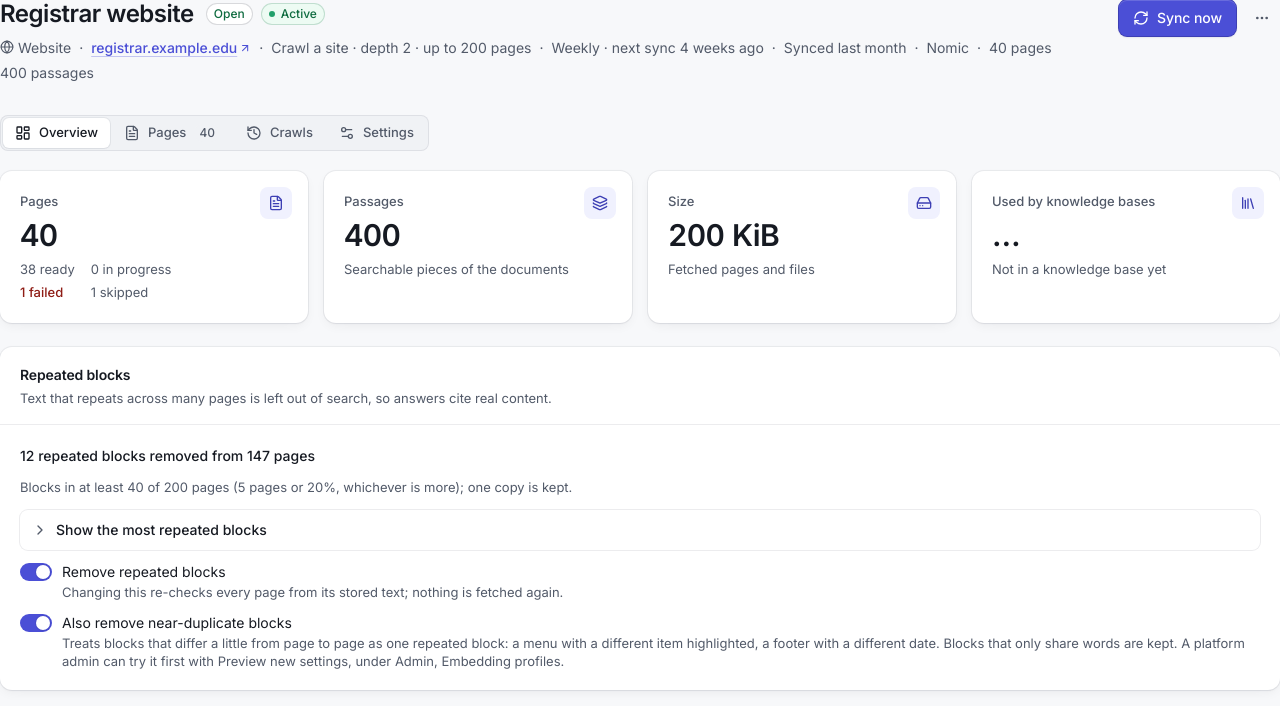
Repeated blocks card › lists a cluster once, with its variants
Step 1. Click the button "Show the most repeated blocks" → (161, 530), box [20,510,1260,550]
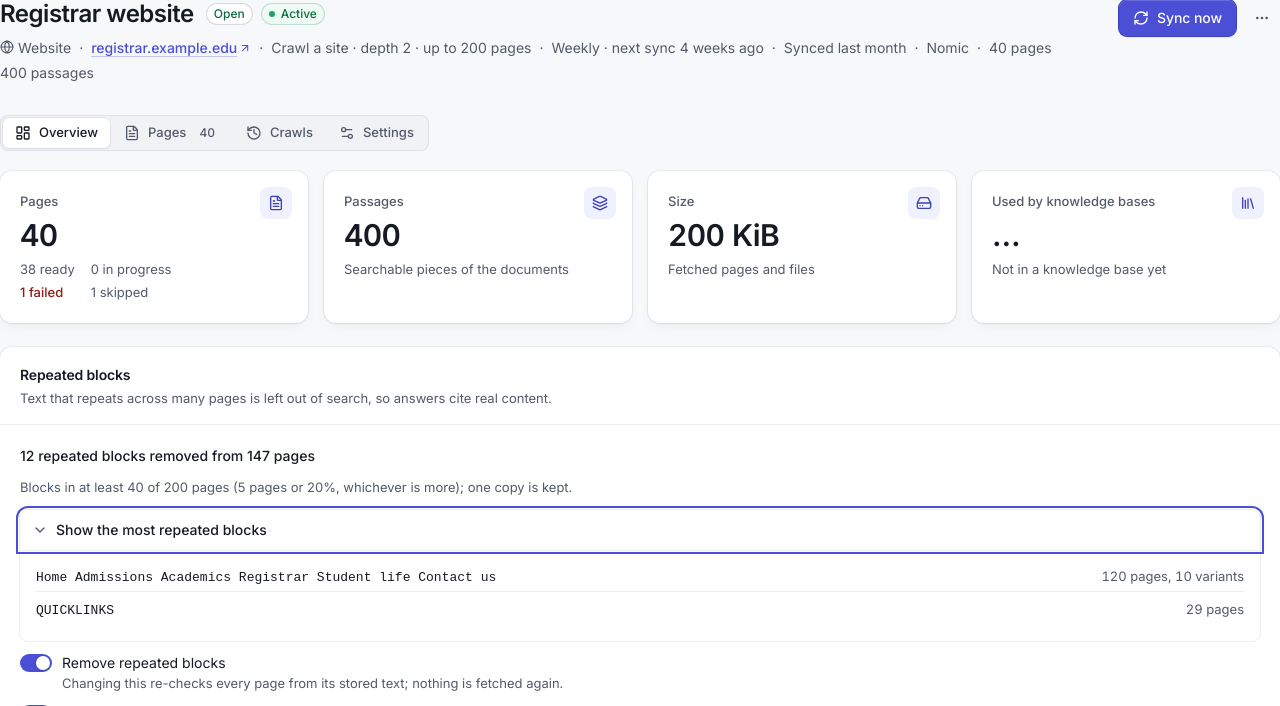
Expected: the text "120 pages, 10 variants" is shown, [1101,567,1244,586]
Expected: the text "29 pages" is shown, [1186,600,1244,620]
